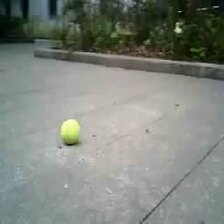tennis: (60, 119, 80, 145)
